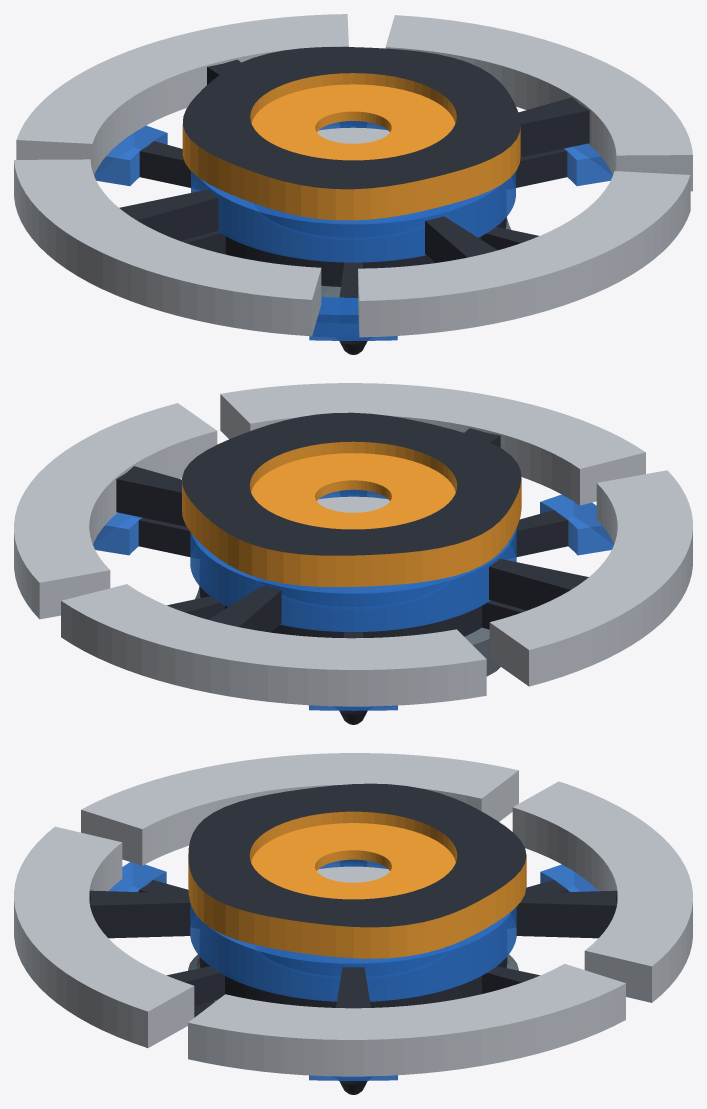
The model's file is assembly_phase2b_stamina_representative.glb.
The picture shows the model from 3 angles, top to bottom: view 1: azimuth 30°, elevation 25°; view 2: azimuth 150°, elevation 25°; view 3: azimuth 270°, elevation 25°; orthographic projection.
Parts seen in each view (by area): view 1: GEO_core_solar_wolf_BODY, GEO_blade_orbit_halo_RING_4, GEO_blade_orbit_halo_RING_3, GEO_blade_orbit_halo_RING_2, GEO_blade_orbit_halo_RING_1, GEO_blade_orbit_halo_HUB, GEO_core_solar_wolf_NSS_V1_COLLAR, GEO_blade_orbit_halo_SPOKE_3, GEO_blade_orbit_halo_SPOKE_1, GEO_assist_air_HUB, GEO_assist_air_BRIDGE_3, GEO_blade_orbit_halo_SPOKE_4 (+8 smaller); view 2: GEO_core_solar_wolf_BODY, GEO_blade_orbit_halo_RING_2, GEO_blade_orbit_halo_RING_3, GEO_blade_orbit_halo_RING_4, GEO_blade_orbit_halo_RING_1, GEO_blade_orbit_halo_HUB, GEO_core_solar_wolf_NSS_V1_COLLAR, GEO_blade_orbit_halo_SPOKE_3, GEO_blade_orbit_halo_SPOKE_1, GEO_assist_air_BRIDGE_5, GEO_blade_orbit_halo_SPOKE_2, GEO_assist_air_HUB (+7 smaller); view 3: GEO_core_solar_wolf_BODY, GEO_blade_orbit_halo_RING_1, GEO_blade_orbit_halo_RING_4, GEO_blade_orbit_halo_RING_2, GEO_blade_orbit_halo_RING_3, GEO_blade_orbit_halo_HUB, GEO_core_solar_wolf_NSS_V1_COLLAR, GEO_blade_orbit_halo_SPOKE_4, GEO_blade_orbit_halo_SPOKE_2, GEO_assist_air_HUB, GEO_assist_air_SPOKE_6, GEO_blade_orbit_halo_SPOKE_1 (+4 smaller).
Part boxes in pixels (<box>): GEO_core_solar_wolf_BODY: <box>182,47,520,220</box>; GEO_blade_orbit_halo_RING_4: <box>358,171,690,337</box>; GEO_blade_orbit_halo_RING_3: <box>14,159,321,336</box>; GEO_blade_orbit_halo_RING_2: <box>16,14,348,175</box>; GEO_blade_orbit_halo_RING_1: <box>385,15,692,191</box>; GEO_blade_orbit_halo_HUB: <box>191,121,515,262</box>; GEO_core_solar_wolf_NSS_V1_COLLAR: <box>251,84,455,160</box>; GEO_blade_orbit_halo_SPOKE_3: <box>119,189,218,240</box>; GEO_blade_orbit_halo_SPOKE_1: <box>518,97,589,157</box>; GEO_assist_air_HUB: <box>225,217,506,286</box>; GEO_assist_air_BRIDGE_3: <box>94,125,167,186</box>; GEO_blade_orbit_halo_SPOKE_4: <box>425,216,497,262</box>; GEO_core_solar_wolf_BODY: <box>182,412,521,586</box>; GEO_blade_orbit_halo_RING_2: <box>61,584,486,706</box>; GEO_blade_orbit_halo_RING_3: <box>489,470,692,686</box>; GEO_blade_orbit_halo_RING_4: <box>220,383,645,505</box>; GEO_blade_orbit_halo_RING_1: <box>14,403,217,619</box>; GEO_blade_orbit_halo_HUB: <box>190,489,516,631</box>; GEO_core_solar_wolf_NSS_V1_COLLAR: <box>251,453,455,529</box>; GEO_blade_orbit_halo_SPOKE_3: <box>489,558,588,610</box>; GEO_blade_orbit_halo_SPOKE_1: <box>116,466,186,526</box>; GEO_assist_air_BRIDGE_5: <box>540,494,613,555</box>; GEO_blade_orbit_halo_SPOKE_2: <box>208,585,281,632</box>; GEO_assist_air_HUB: <box>199,586,481,637</box>; GEO_core_solar_wolf_BODY: <box>188,783,526,958</box>; GEO_blade_orbit_halo_RING_1: <box>188,963,625,1076</box>; GEO_blade_orbit_halo_RING_4: <box>14,826,194,1047</box>; GEO_blade_orbit_halo_RING_2: <box>512,781,692,1002</box>; GEO_blade_orbit_halo_RING_3: <box>81,753,518,865</box>; GEO_blade_orbit_halo_HUB: <box>190,859,516,1001</box>; GEO_core_solar_wolf_NSS_V1_COLLAR: <box>251,823,455,899</box>; GEO_blade_orbit_halo_SPOKE_4: <box>89,890,190,938</box>; GEO_blade_orbit_halo_SPOKE_2: <box>516,890,617,938</box>; GEO_assist_air_HUB: <box>199,957,507,1007</box>; GEO_assist_air_SPOKE_6: <box>167,966,224,1005</box>; GEO_blade_orbit_halo_SPOKE_1: <box>336,967,370,1008</box>.
Bounding box in the file's own units: 0.0706 × 0.0272 × 0.0706.
